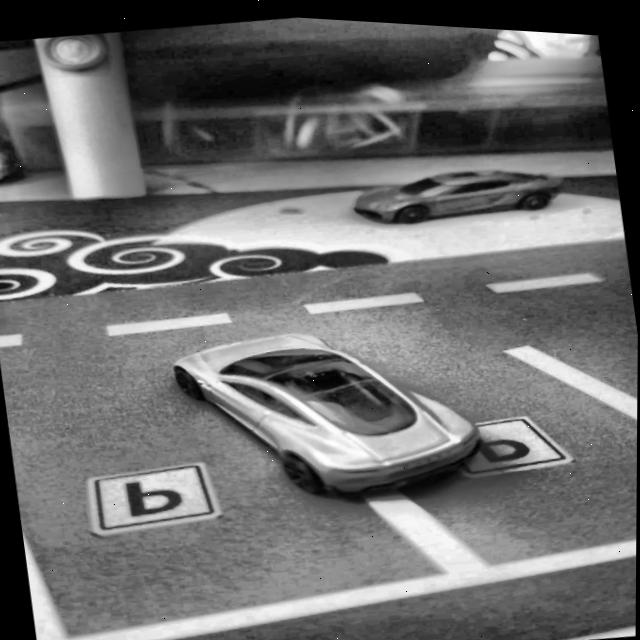car: (170, 298, 490, 519), (348, 144, 568, 233), (0, 116, 26, 187)
